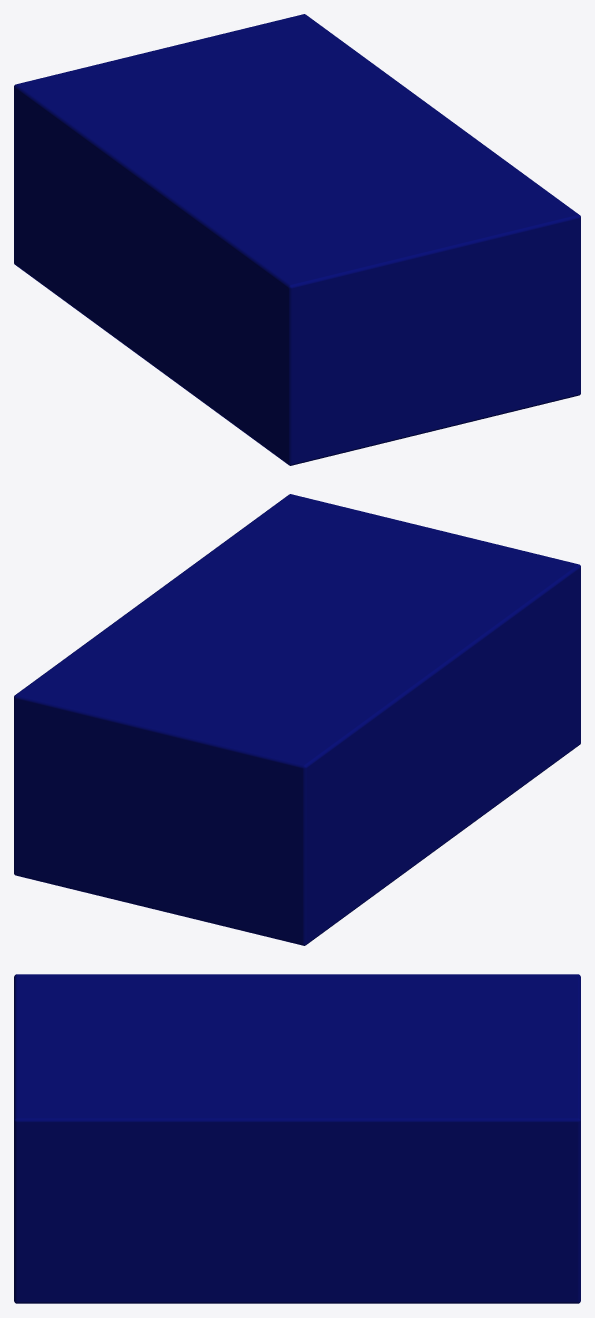
The model's file is Cuboid.fbx.
3 renders of one model, top to bottom at view 1: azimuth 30°, elevation 25°; view 2: azimuth 150°, elevation 25°; view 3: azimuth 270°, elevation 25°, orthographic. The views are drawn at different scales.
Parts seen in each view (by area): view 1: node_id30; view 2: node_id30; view 3: node_id30.
Boxes of the visible parts, x1,y1,x2,y2 form: node_id30: [14, 14, 580, 465]; node_id30: [14, 494, 580, 945]; node_id30: [14, 974, 580, 1303].
Bounding box in the file's own units: 0.512 × 0.3025 × 0.8385.
Materials: 1 (1 with a texture image).
